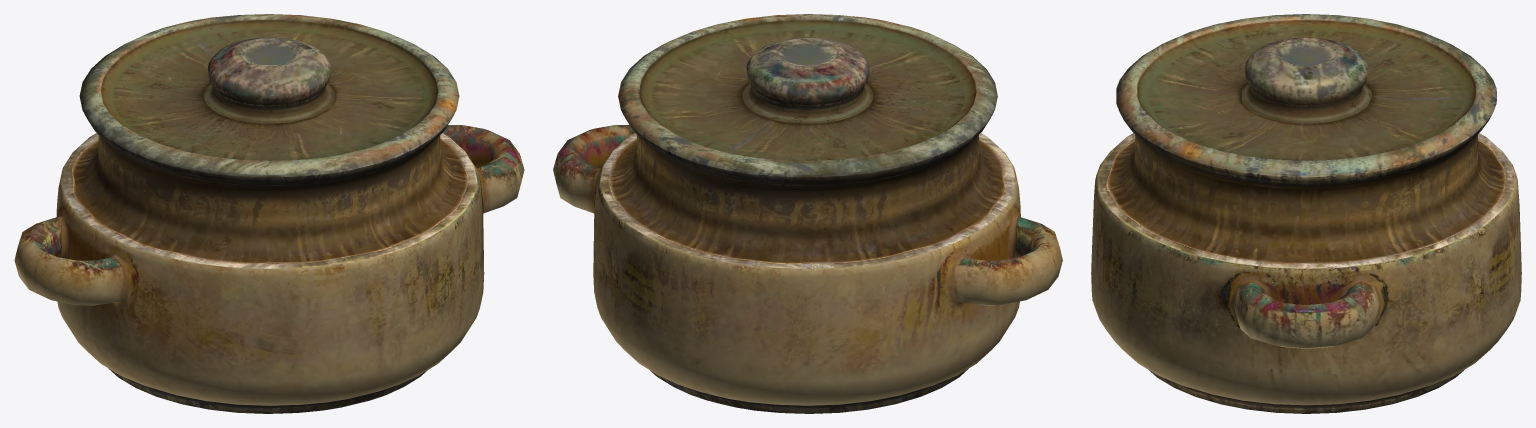
File: assets__ph__ceramic_pot.glb
The picture shows the model from 3 angles, left to right: view 1: azimuth 30°, elevation 25°; view 2: azimuth 150°, elevation 25°; view 3: azimuth 270°, elevation 25°; orthographic projection.
Parts seen in each view (by area): view 1: ceramic_pot; view 2: ceramic_pot; view 3: ceramic_pot.
Part boxes in pixels (<box>): ceramic_pot: <box>14,14,524,413</box>; ceramic_pot: <box>553,14,1062,413</box>; ceramic_pot: <box>1091,14,1521,413</box>.
Size of the model in its own units: 0.6563 by 0.3717 by 0.5018.
Materials: 1 (1 with a texture image).
